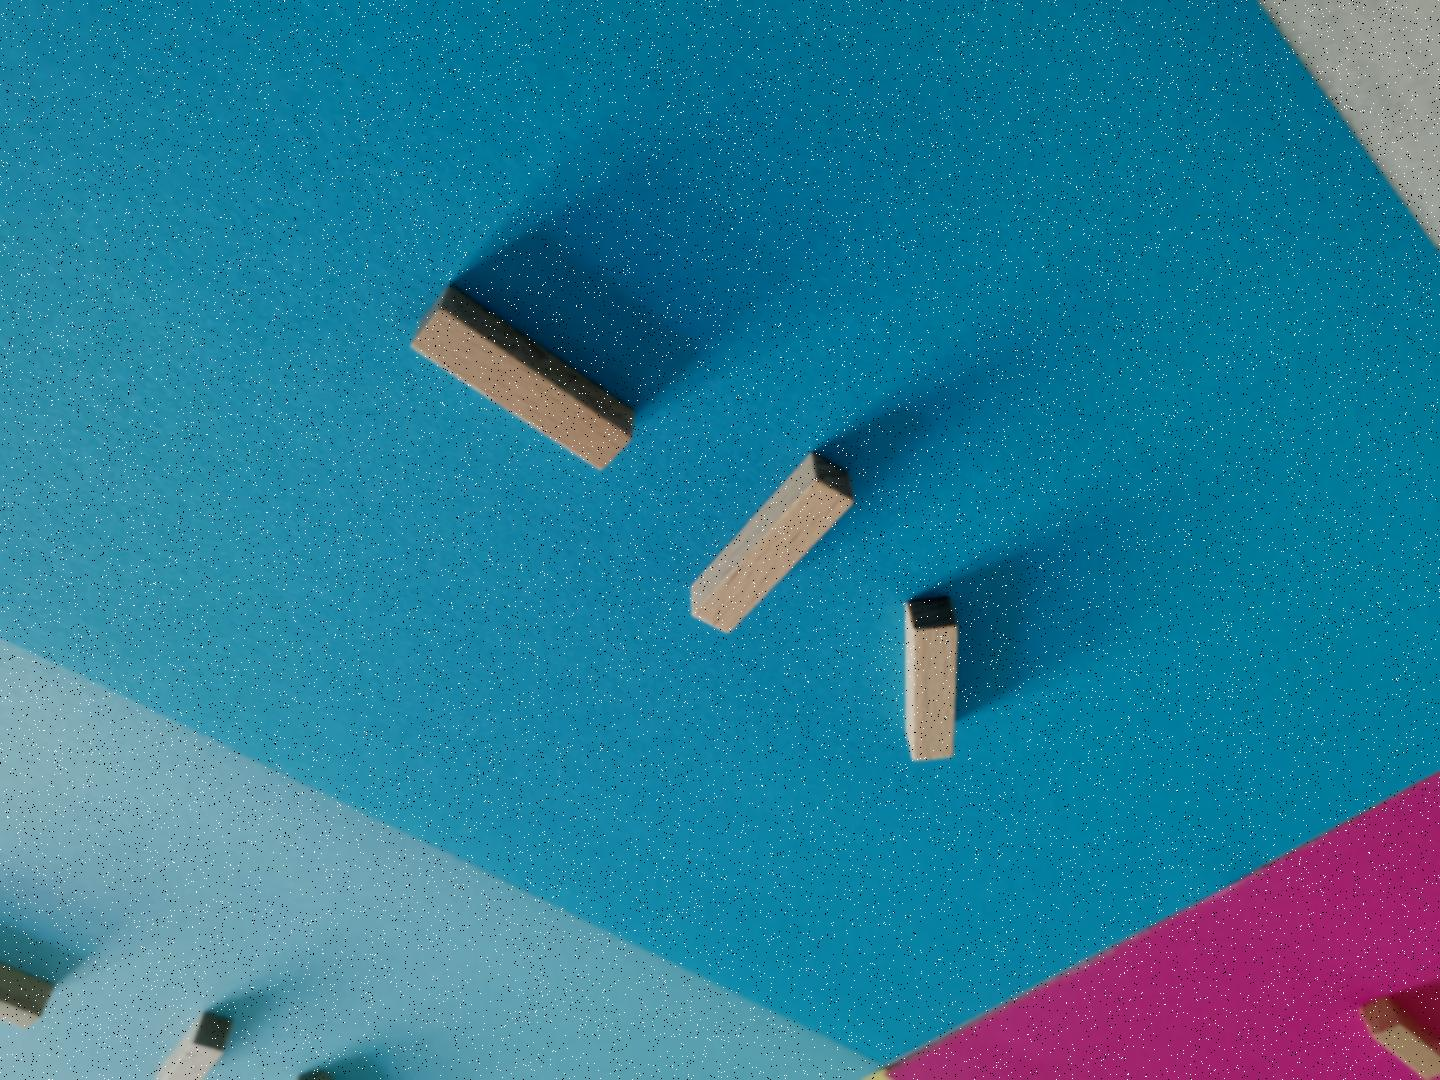jenga: (410, 287, 636, 470), (692, 453, 853, 633), (906, 597, 959, 762), (1358, 996, 1440, 1080)
